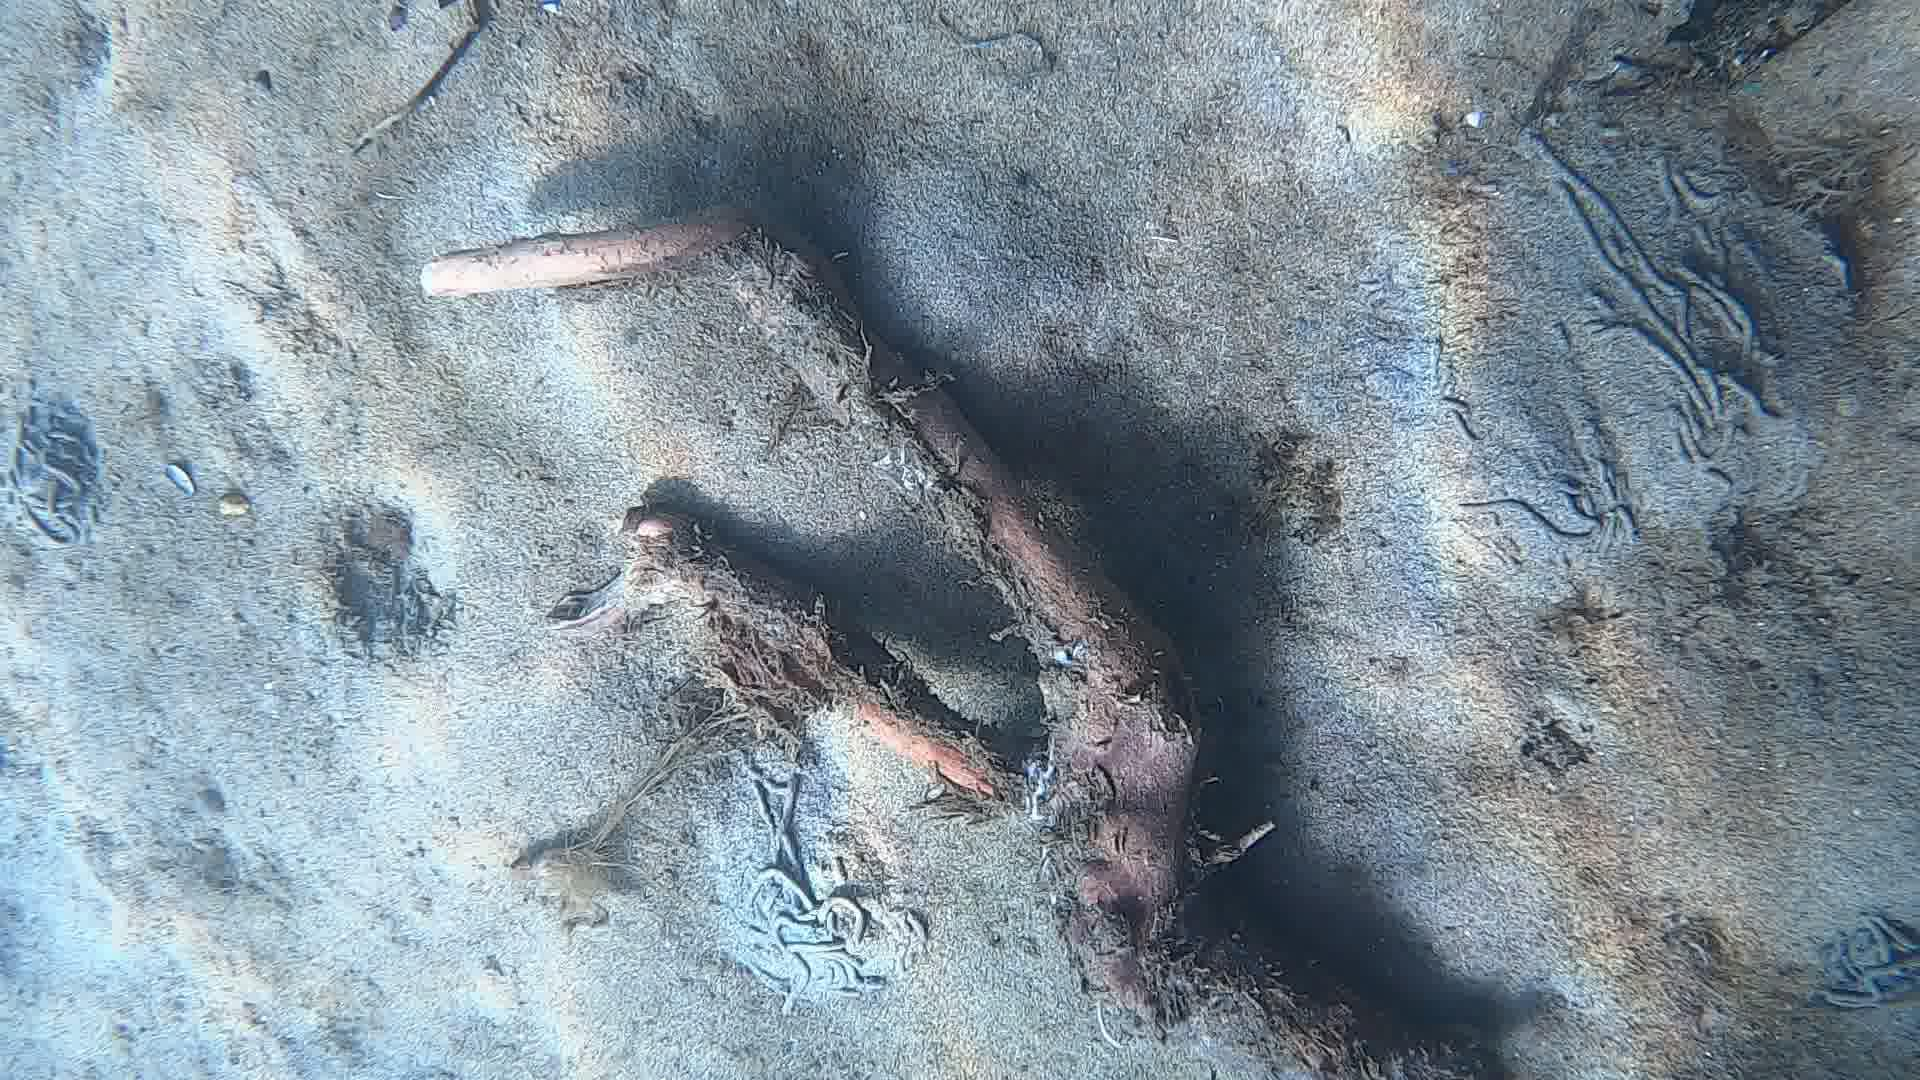wood: (417, 211, 1425, 1080)
